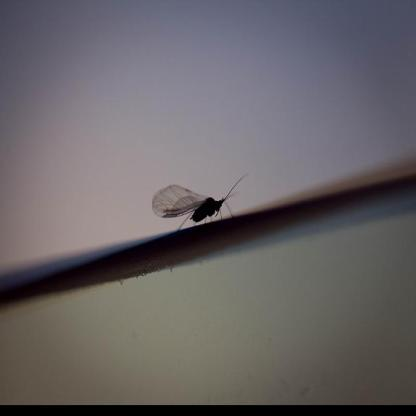aphid: (150, 172, 255, 232)
